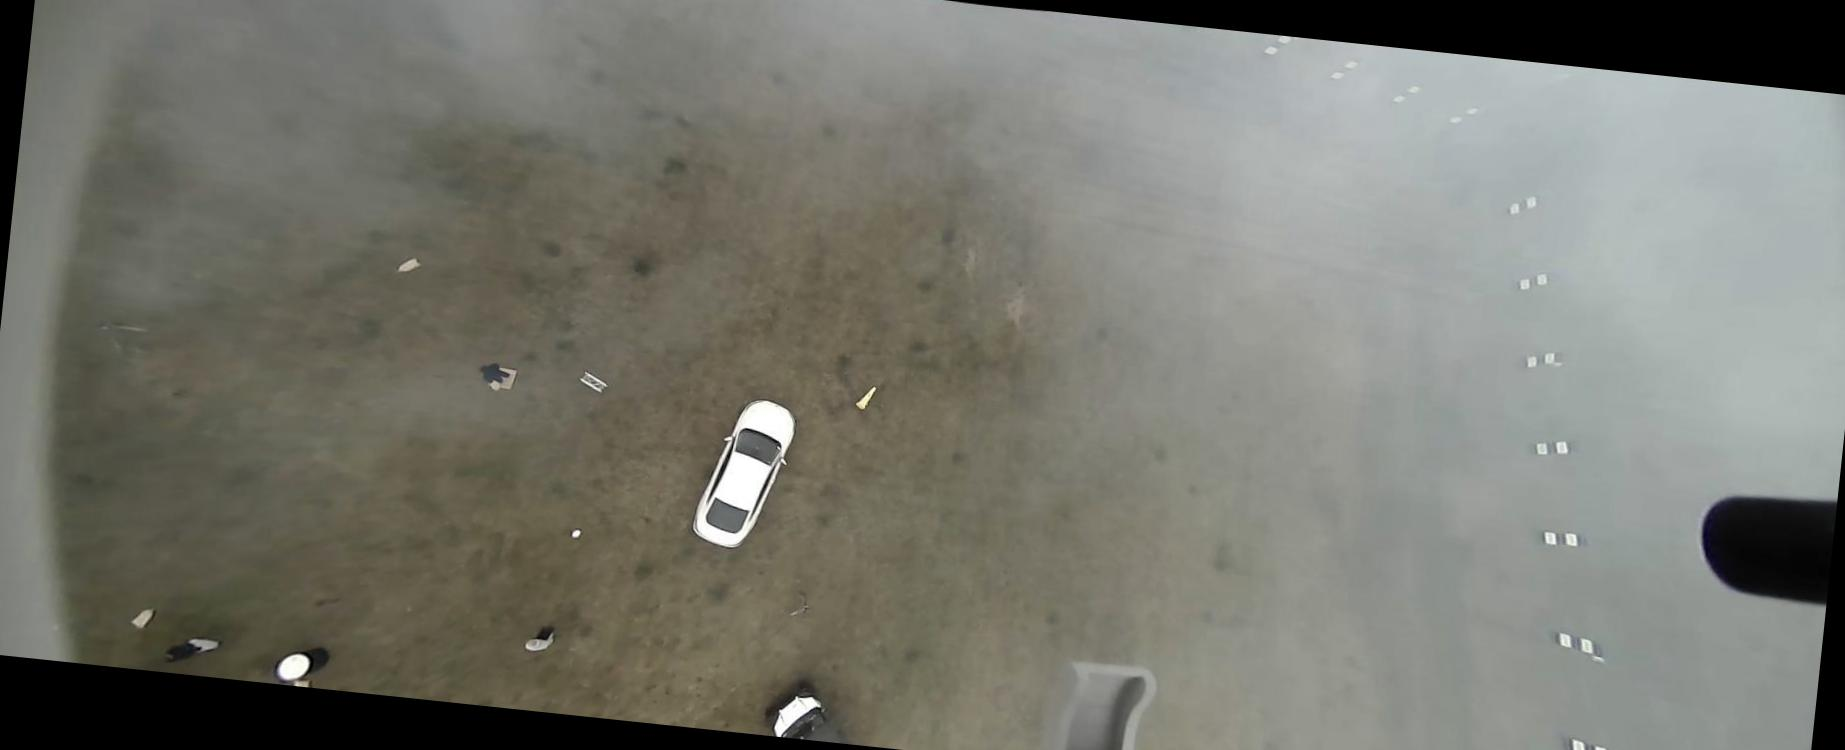vehicle: (686, 392, 799, 556), (760, 677, 855, 743)
